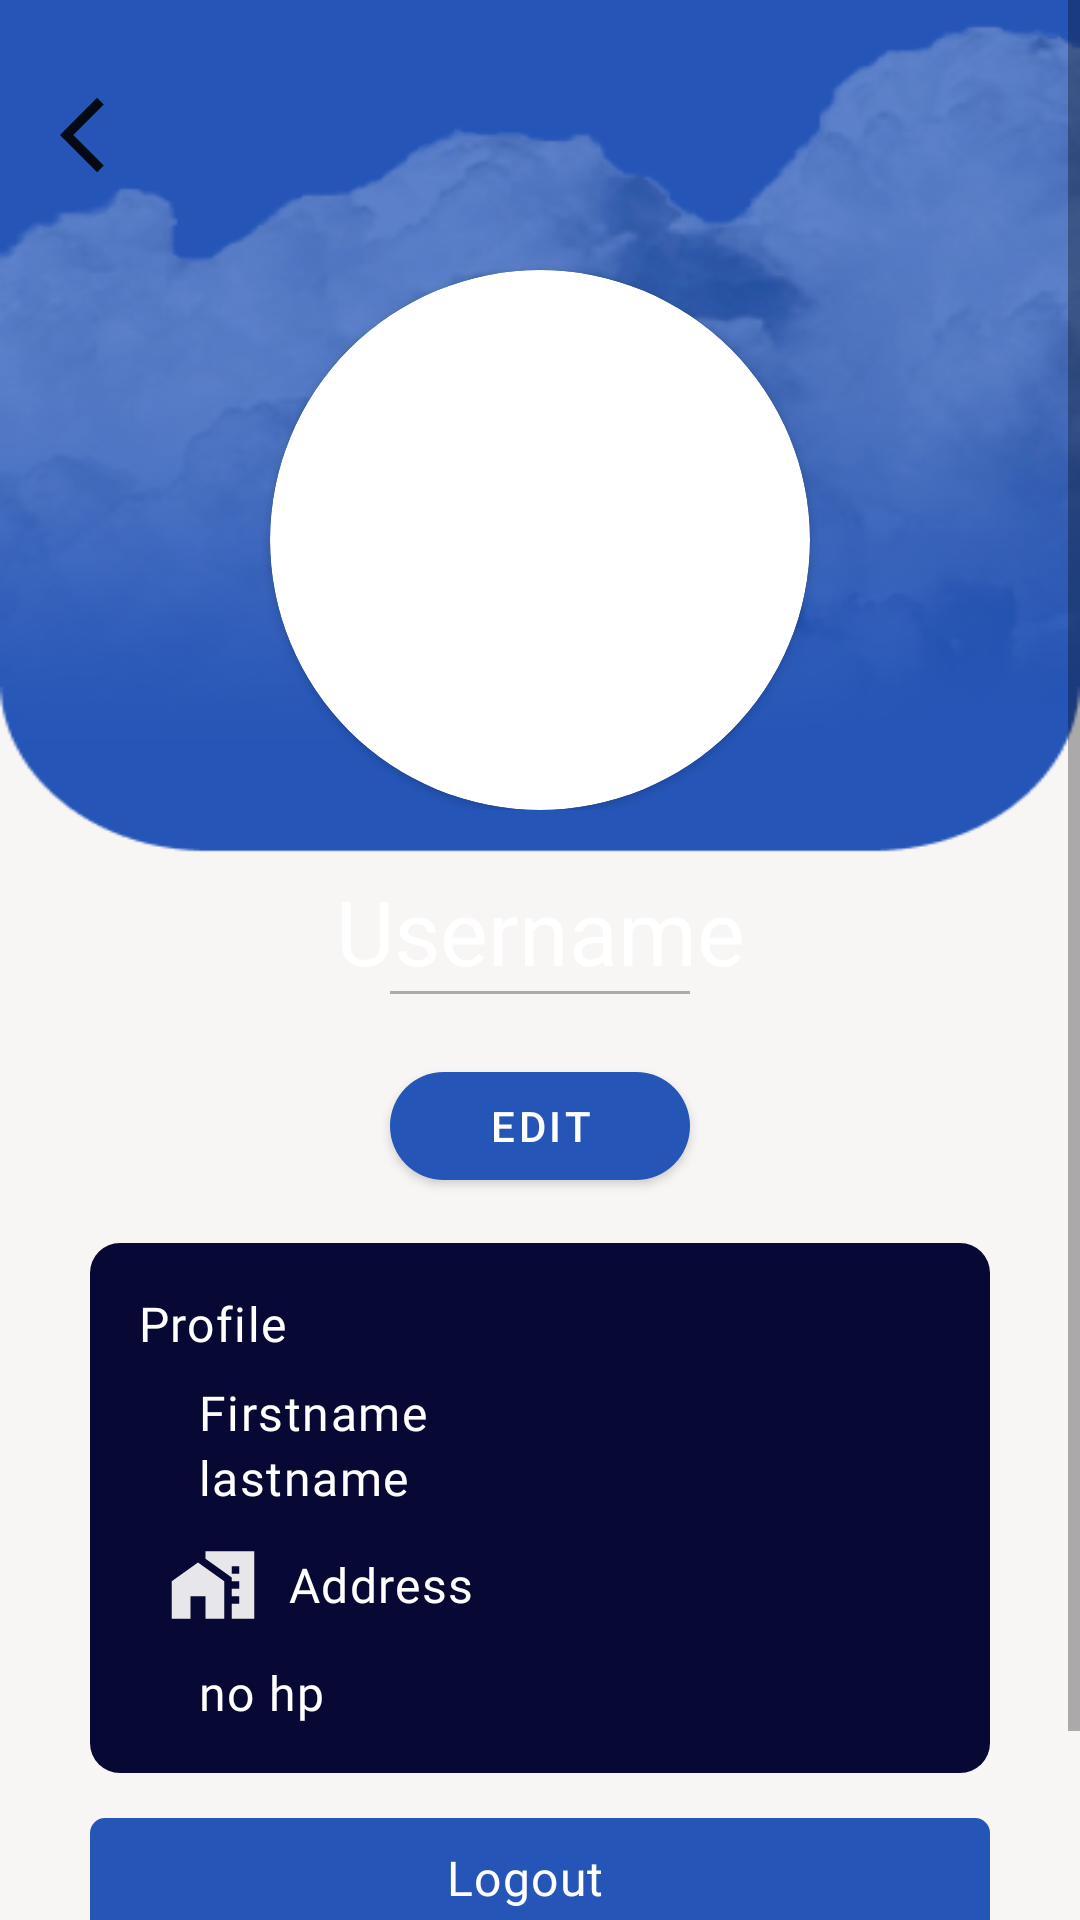

Where to tap for icons on this 1080px×1920px app screen, as point (x, y):
arrow back: point (82, 135)
home work: point (213, 1585)
